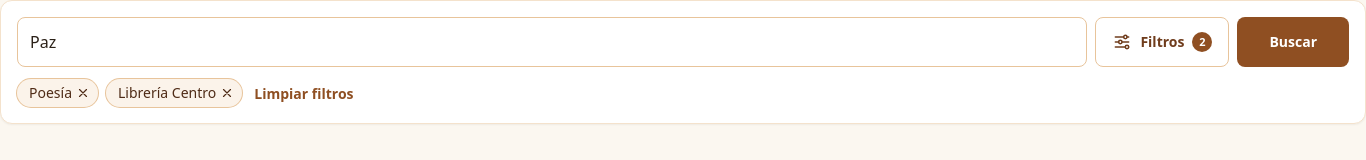
Test case: SearchFilters › shows applied filters as chips that can be removed or cleared
expect the search field with placeholder "Busca por título o autor…" holds "Paz": met, box [17,17,1087,67]
expect the button with aria-label "Filtros, 2 activos" is shown: met, box [1095,17,1229,67]
Click the button with aria-label "Quitar filtro Librería Centro": (174, 93) [106,79,242,107]
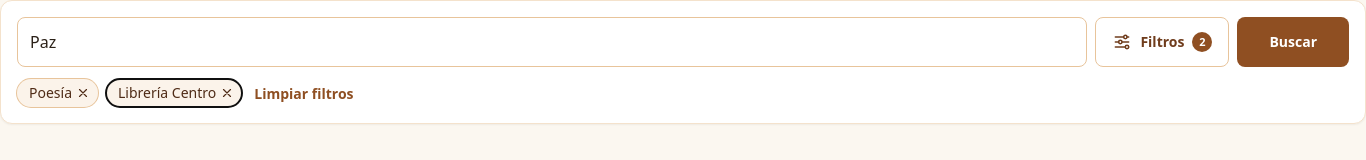
Click the button "Limpiar filtros": (304, 94) [250,84,358,104]
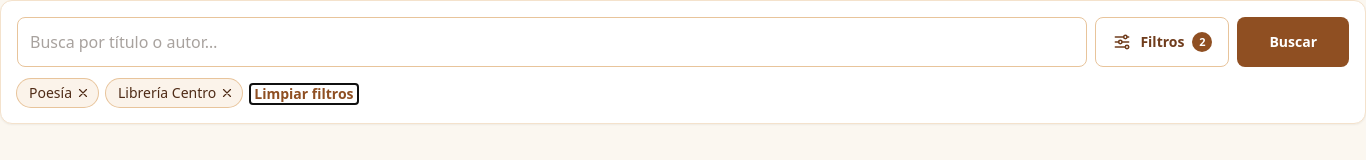
expect the search field with placeholder "Busca por título o autor…" is empty: met, box [17,17,1087,67]
